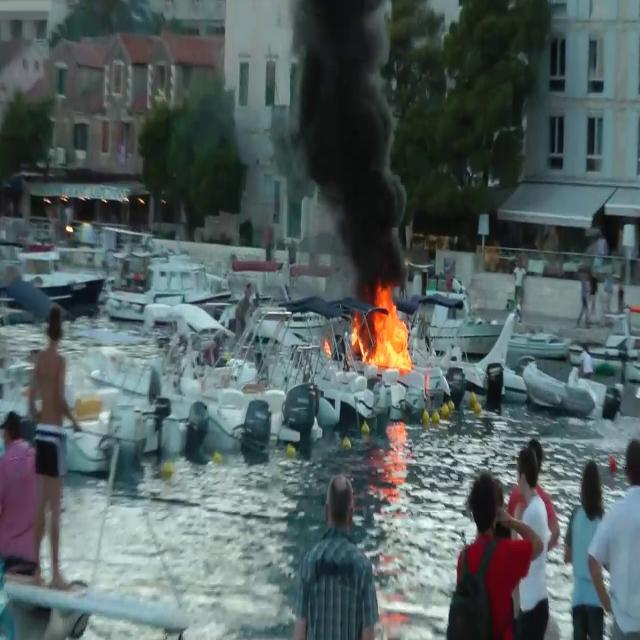Fire: (350, 281, 414, 375)
Smoke: (276, 0, 416, 292)
